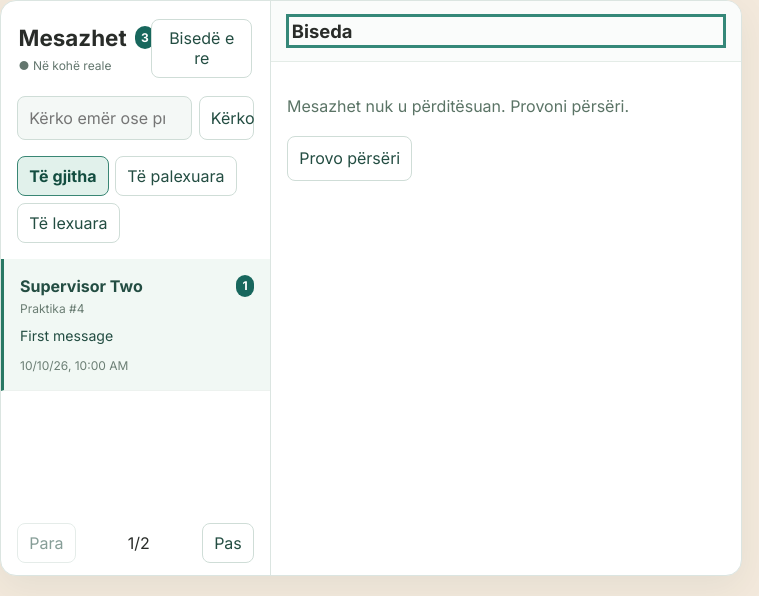
it: shows history error without acknowledging and offers retry
Expected: the message "Mesazhet nuk u përditësuan. Provoni përsëri. Provo përsëri" is shown, x1=287 y1=96 x2=629 y2=181
Click the button "Provo përsëri" at coordinates (350, 159), box x1=287 y1=136 x2=412 y2=181
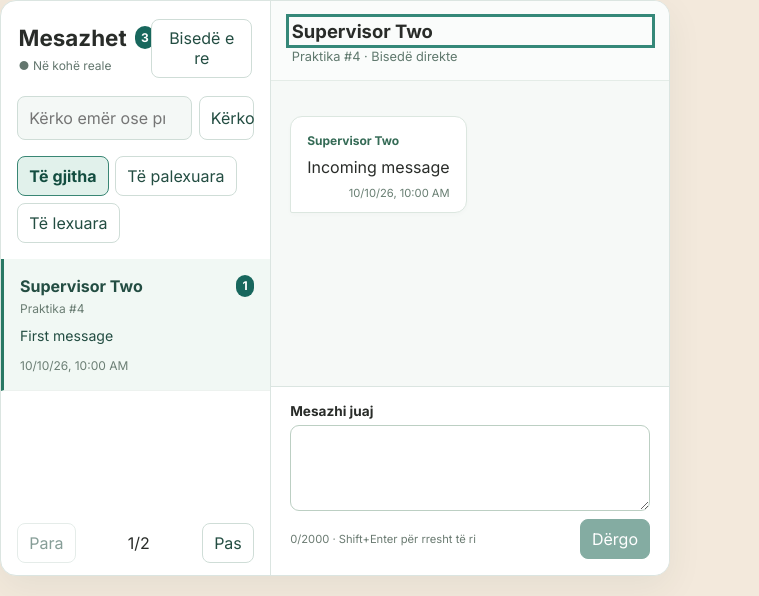
Result: the text "Incoming message" is shown at x1=307 y1=155 x2=450 y2=180
